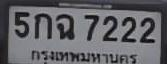2: (139, 16, 154, 42), (120, 16, 135, 42), (102, 15, 117, 41)
5: (14, 11, 29, 37)
7: (83, 14, 98, 40)
A01: (34, 12, 51, 38)
A09: (55, 13, 74, 39)
BKK: (28, 47, 139, 64)
